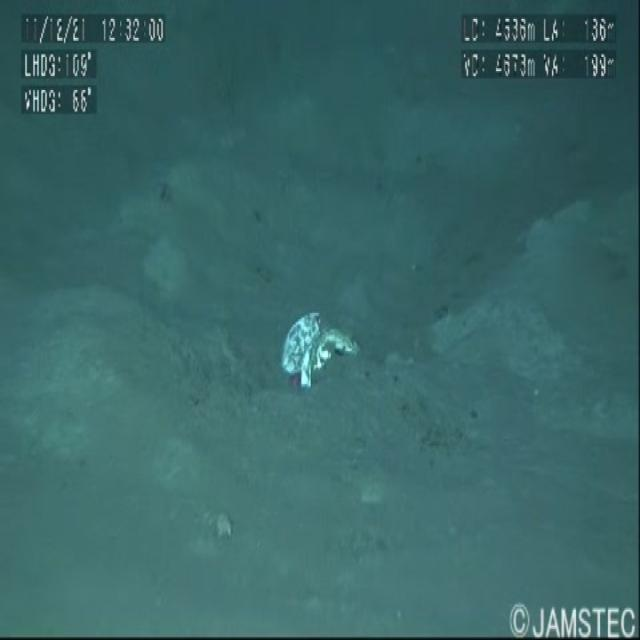Litter: (267, 274, 380, 460)
